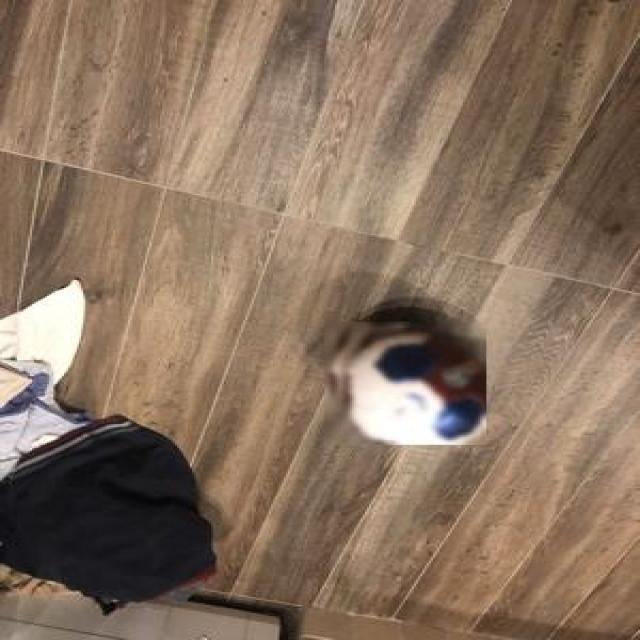ball: (324, 322, 486, 444)
